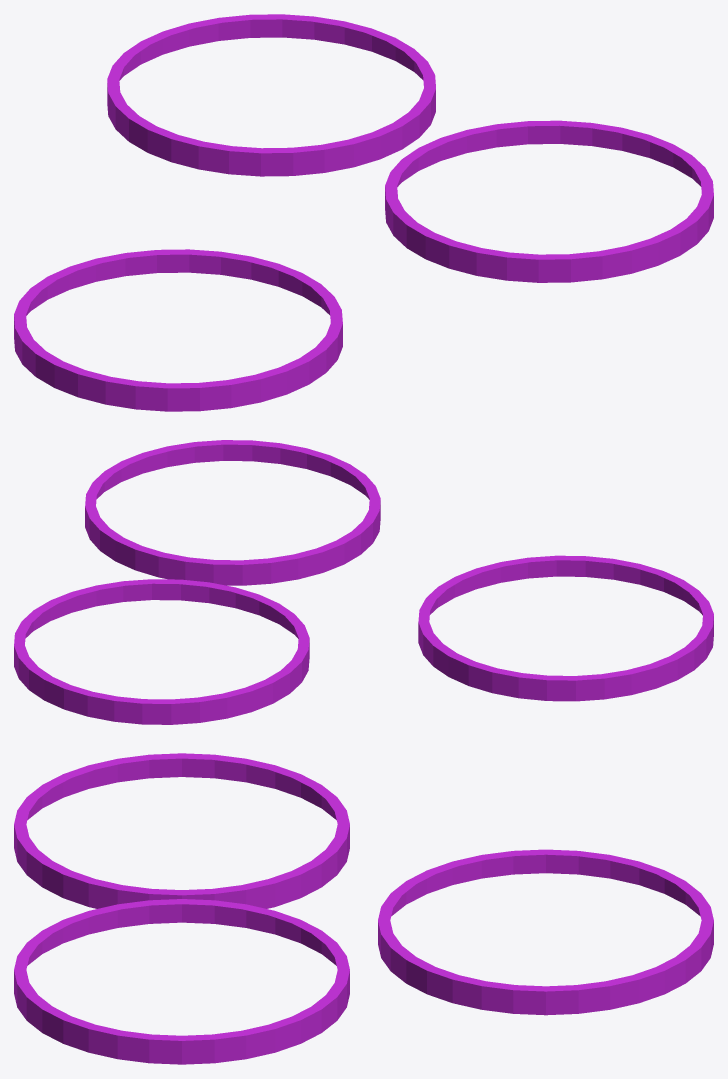
File: Cebollas.glb
3 views of the same model, one above another, from view 1: azimuth 30°, elevation 25°; view 2: azimuth 150°, elevation 25°; view 3: azimuth 270°, elevation 25° (orthographic). The views are drawn at different scales.
Parts seen in each view (by area): view 1: Cylinder.006, Cylinder.004, Cylinder.005; view 2: Cylinder.004, Cylinder.006, Cylinder.005; view 3: Cylinder.005, Cylinder.006, Cylinder.004.
Part boxes in pixels (<box>): Cylinder.006: <box>107,14,435,176</box>; Cylinder.004: <box>14,249,342,411</box>; Cylinder.005: <box>385,120,713,282</box>; Cylinder.004: <box>418,555,713,701</box>; Cylinder.006: <box>14,579,309,724</box>; Cylinder.005: <box>85,440,380,585</box>; Cylinder.005: <box>14,899,349,1064</box>; Cylinder.006: <box>378,849,713,1015</box>; Cylinder.004: <box>14,753,349,908</box>.
Size of the model in its own units: 4.6 by 0.4113 by 4.17.
